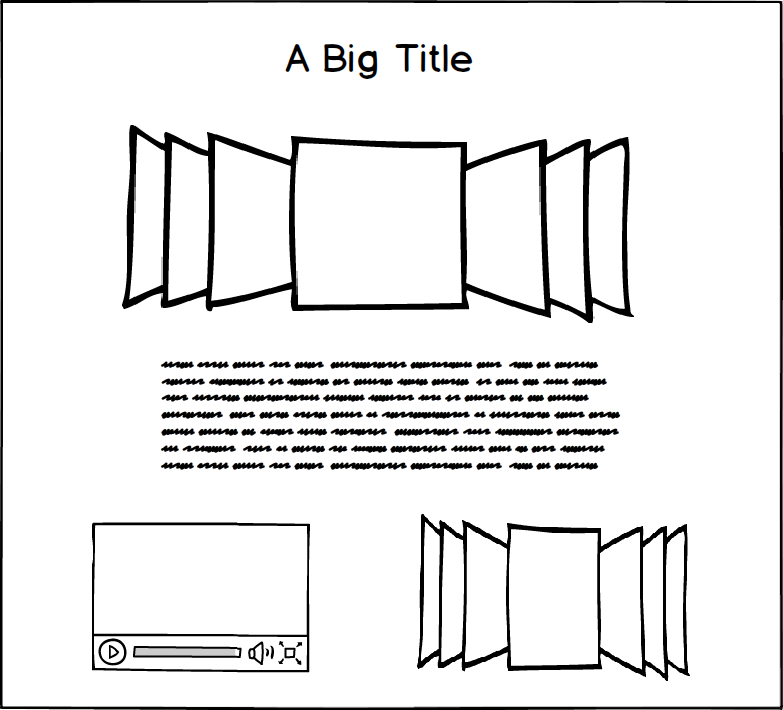h1: (278, 37, 477, 86)
p: (153, 348, 627, 483)
slideshow: (109, 118, 645, 334), (410, 508, 698, 687)
video: (88, 516, 315, 677)
